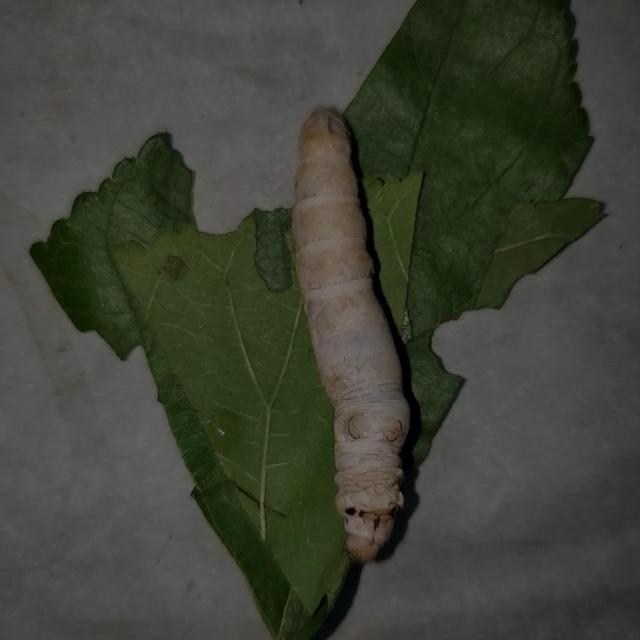Grasserie: (240, 73, 444, 582)
